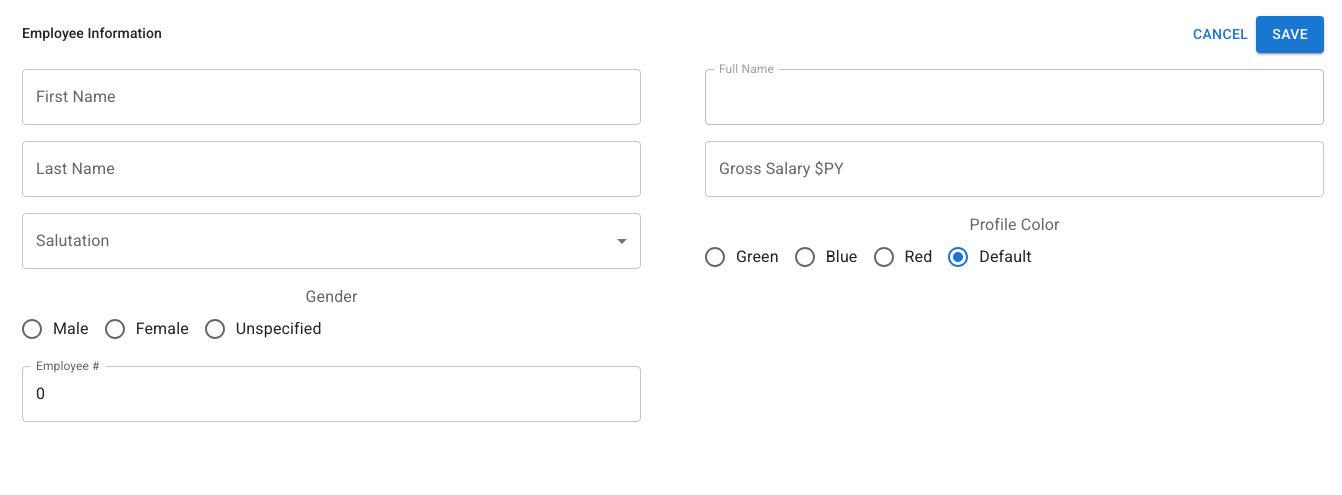
Scenario: Form Input Handling › should update gender when certain salutations are selected
The width and height of the screenshot is (1342, 495).
Open salutation dropdown
Press the mouse on the dropdown named "Salutation" at (332, 240), box [22, 212, 641, 268]
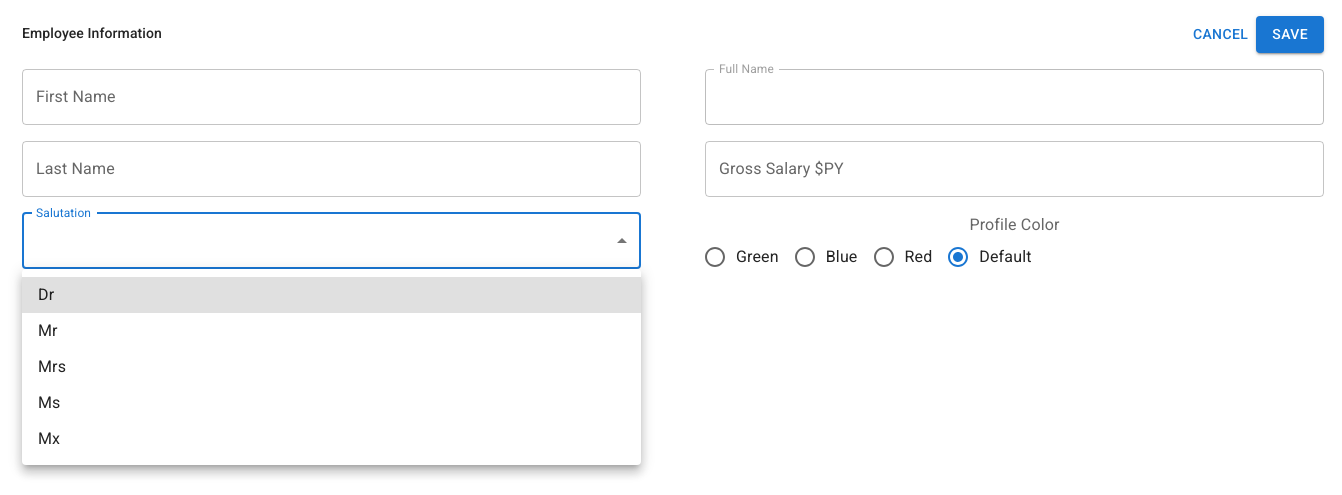
Select 'Mr'
Click the option "Mr".
click(48, 330)  # box [38, 321, 58, 340]
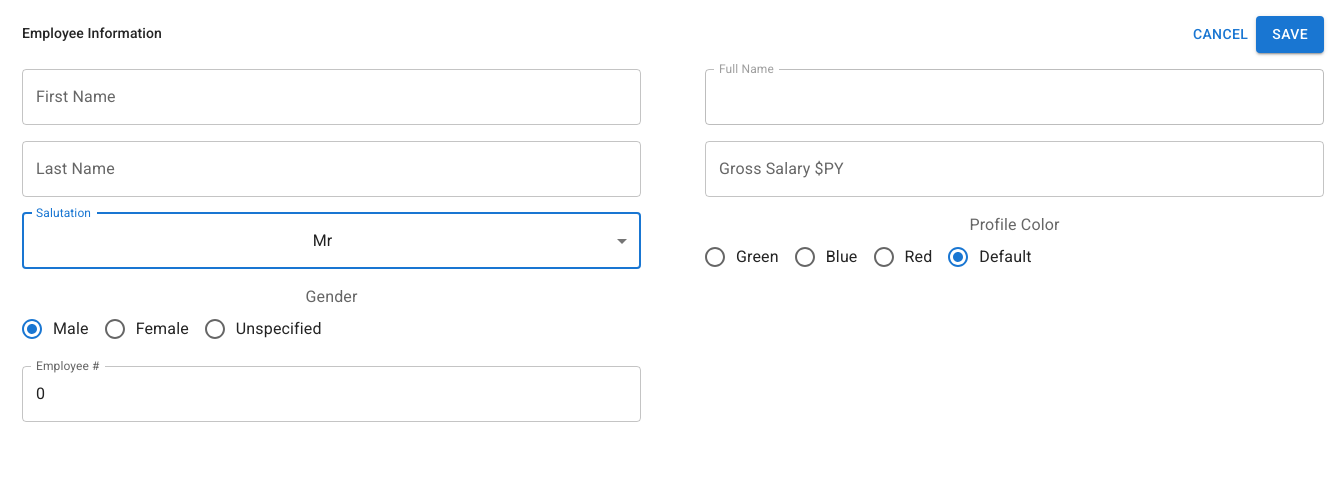
Expected: the radio button labelled "Male" is checked, [20, 316, 89, 340]
